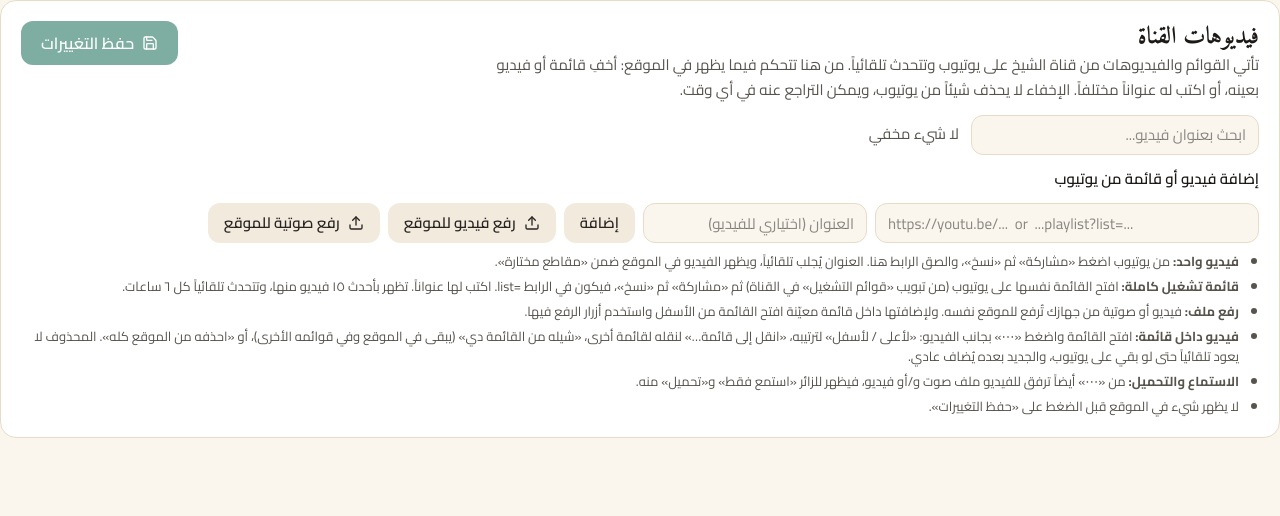
YoutubeManager › refuses a playlist without a title and saves nothing
This screenshot has width=1280, height=516.
Type "https://www.youtube.com/playlist?list=PLabcdefghijklmnop" into the field named "رابط الفيديو أو القائمة".
click(1067, 223); type("https://www.youtube.com/playlist?list=PLabcdefghijklmnop")  # box [875, 203, 1259, 243]
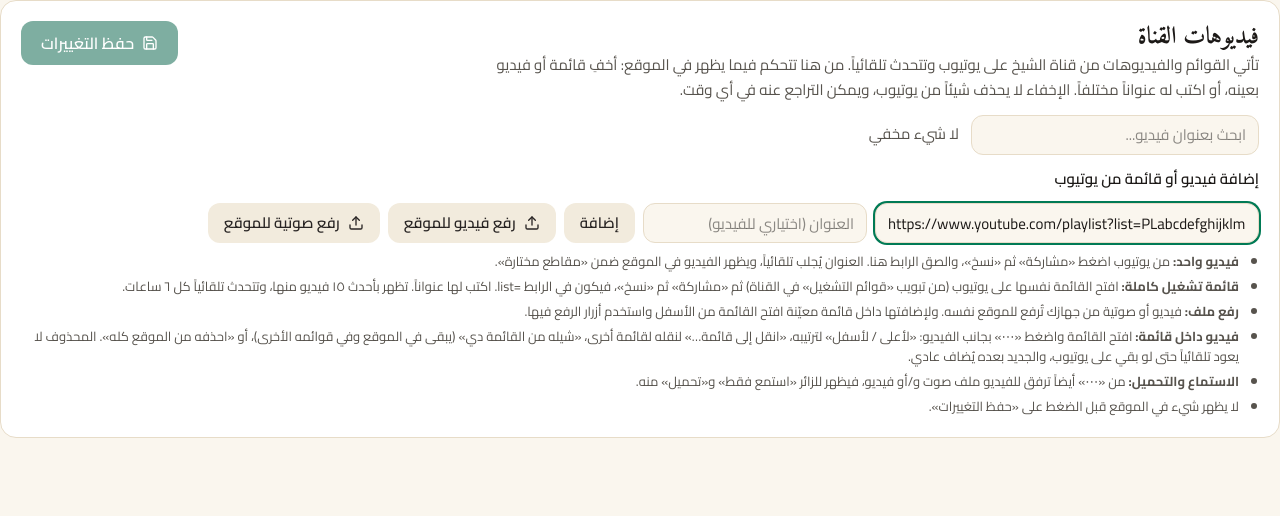
Click the button "إضافة".
click(599, 223)  # box [564, 203, 635, 243]
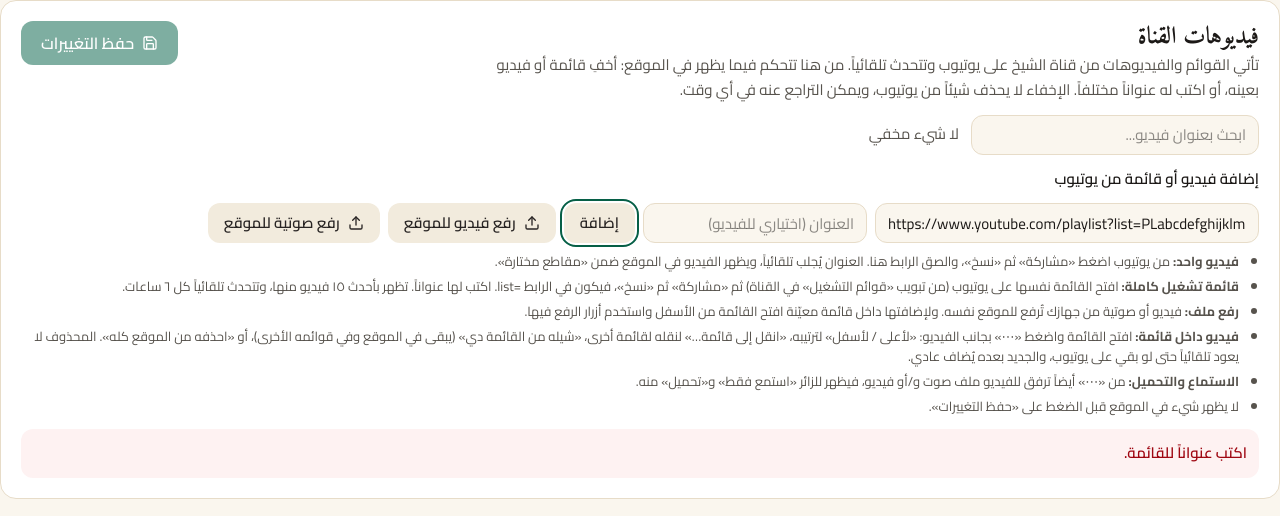
Expected: the button "حفظ التغييرات" is disabled, [21, 21, 178, 65]
Result: the message shows "اكتب عنواناً للقائمة" at [1124, 438, 1247, 467]
